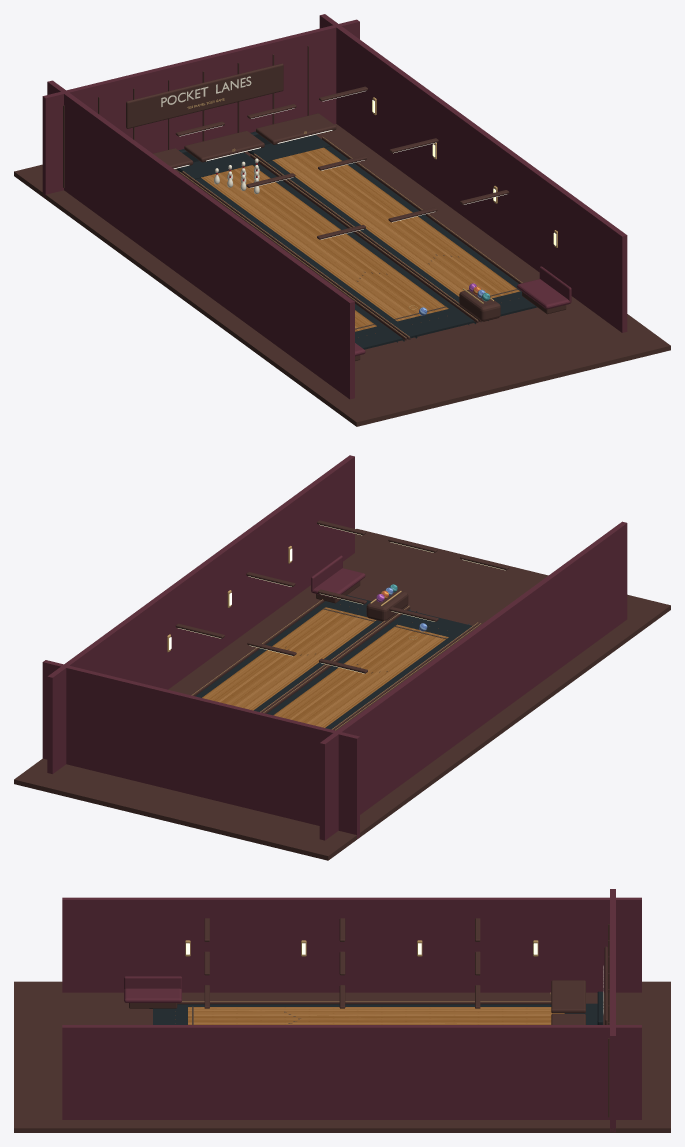
3 renders of one model, top to bottom at view 1: azimuth 30°, elevation 25°; view 2: azimuth 150°, elevation 25°; view 3: azimuth 270°, elevation 25°, orthographic. The views are drawn at different scales.
Parts seen in each view (by area): view 1: Hall_Burgundy_felt, Hall_Smoked_walnut, Hall_Varnished_long-grain_maple, Hall_Pit_rubber, Hall_Brushed_champagne, Hall_Warm_opal; view 2: Hall_Burgundy_felt, Hall_Smoked_walnut, Hall_Varnished_long-grain_maple, Hall_Pit_rubber, Hall_Brushed_champagne; view 3: Hall_Burgundy_felt, Hall_Smoked_walnut, Hall_Varnished_long-grain_maple, Hall_Pit_rubber, Hall_Brushed_champagne.
Part boxes in pixels (box(x1,y1,x2,y2)): Hall_Burgundy_felt: box(42, 14, 627, 399); Hall_Smoked_walnut: box(14, 45, 670, 426); Hall_Varnished_long-grain_maple: box(201, 147, 520, 331); Hall_Pit_rubber: box(176, 131, 537, 349); Hall_Brushed_champagne: box(179, 97, 557, 337); Hall_Warm_opal: box(173, 91, 556, 245); Hall_Burgundy_felt: box(42, 455, 627, 840); Hall_Smoked_walnut: box(14, 520, 670, 860); Hall_Varnished_long-grain_maple: box(202, 607, 448, 727); Hall_Pit_rubber: box(195, 595, 471, 729); Hall_Brushed_champagne: box(167, 546, 480, 730); Hall_Burgundy_felt: box(62, 889, 641, 1132); Hall_Smoked_walnut: box(14, 918, 670, 1132); Hall_Varnished_long-grain_maple: box(188, 1007, 564, 1024); Hall_Pit_rubber: box(153, 991, 603, 1024); Hall_Brushed_champagne: box(182, 940, 550, 1001).
Size of the model in its own units: 18 by 5.54 by 34.
18 materials, 1 textured.
